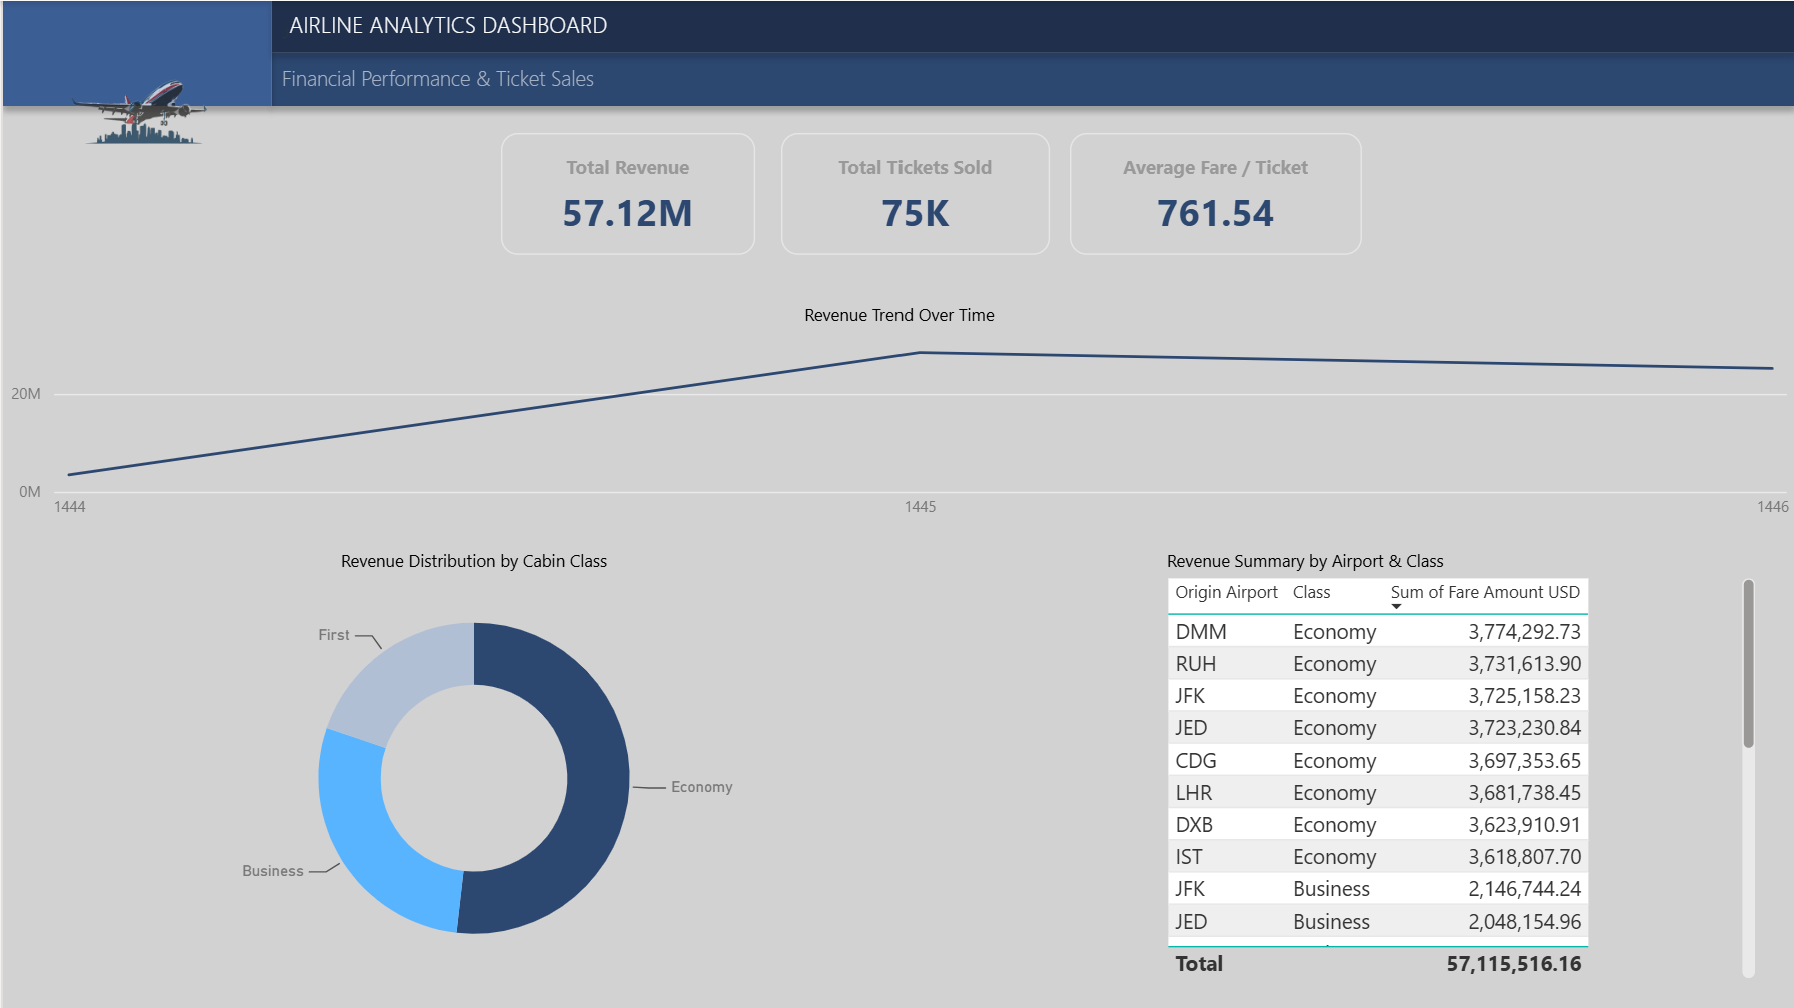

Layout of this report page (visuals, bound fields, positions):
{"tool":"powerbi","page":{"name":"03 | Revenue & Passengers","canvas":[1920,1080],"ordinal":2},"visuals":[{"type":"shape","box":[0,0,182.9,1079.3],"z":0},{"type":"textbox","box":[247,16.1,453.8,67.1],"z":1000},{"type":"textbox","box":[246,63.5,560.1,66.6],"z":2000},{"type":"textbox","box":[10,10,182.9,58],"z":3000},{"type":"textbox","box":[0,58,182.9,55.7],"z":4000},{"type":"actionButton","box":[64.7,260.9,70,70],"z":5000},{"type":"image","box":[78,276.5,44.6,37.9],"z":6000},{"type":"actionButton","box":[64,340,70,70],"z":7000},{"type":"actionButton","box":[64.7,420,70,70],"z":8000},{"type":"actionButton","box":[64.7,500,70,70],"z":9000},{"type":"image","box":[78,356,44,37],"z":10000},{"type":"image","box":[78,436,44,37],"z":11000},{"type":"image","box":[78,516,44,37],"z":12000},{"type":"cardVisual","fields":{"Data":["_Measures.Total Revenue"]},"box":[374.2,111.7,259.3,173.6],"z":13000},{"type":"cardVisual","fields":{"Data":["_Measures.Total Tickets"]},"box":[719.8,111.7,259.3,173.6],"z":14000},{"type":"cardVisual","fields":{"Data":["_Measures.Total Passengers"]},"box":[1065.3,111.7,259.3,173.6],"z":15000},{"type":"cardVisual","fields":{"Data":["_Measures.Average Fare"]},"box":[1410.8,111.7,259.3,173.6],"z":16000},{"type":"shape","box":[231.9,294.4,805,410.3],"z":17000},{"type":"shape","box":[231.9,706.9,805,345.6],"z":18000},{"type":"shape","box":[1083.8,296.6,805,410.3],"z":19000},{"type":"shape","box":[1083.8,706.9,805,345.6],"z":20000},{"type":"lineChart","title":"Average Delay Trend","fields":{"Category":["Dim_Date.Month Year"],"Y":["_Measures.Total Revenue"]},"box":[258.7,321.1,758.2,361.3],"z":21000},{"type":"donutChart","title":"Passenger Loyalty Mix","fields":{"Category":["Dim_Passengers.Loyalty_Tier"],"Y":["_Measures.Total Passengers"]},"box":[1106.1,722.5,760.4,323.3],"z":22000},{"type":"clusteredColumnChart","title":"Revenue by Travel Class","fields":{"Category":["Fact_Tickets.Class"],"Y":["_Measures.Total Revenue"]},"box":[1106.1,314.4,782.7,392.5],"z":23000},{"type":"clusteredColumnChart","title":"Ticket Sales Trend","fields":{"Category":["Dim_Date.Month Year"],"Y":["_Measures.Total Tickets"]},"box":[254.2,722.5,767.1,330],"z":24000},{"type":"image","box":[555.3,173.9,50,50],"z":25000},{"type":"image","box":[1244.3,173.9,50,50],"z":26000},{"type":"image","box":[1594.4,171.7,50,50],"z":27000},{"type":"image","box":[909.8,171.7,50,50],"z":28000}]}

Visuals, with their boxes in screenshot pixels (x1, y1, x2, y2), scaled from the page's 1920x1080 canvas onto the 1794x1008 screenshot:
shape: left=0, top=0, right=171, bottom=1007
textbox: left=231, top=15, right=655, bottom=78
textbox: left=230, top=59, right=753, bottom=121
textbox: left=9, top=9, right=180, bottom=63
textbox: left=0, top=54, right=171, bottom=106
actionButton: left=60, top=244, right=126, bottom=309
image: left=73, top=258, right=115, bottom=293
actionButton: left=60, top=317, right=125, bottom=383
actionButton: left=60, top=392, right=126, bottom=457
actionButton: left=60, top=467, right=126, bottom=532
image: left=73, top=332, right=114, bottom=367
image: left=73, top=407, right=114, bottom=441
image: left=73, top=482, right=114, bottom=516
cardVisual - _Measures.Total Revenue: left=350, top=104, right=592, bottom=266
cardVisual - _Measures.Total Tickets: left=673, top=104, right=915, bottom=266
cardVisual - _Measures.Total Passengers: left=995, top=104, right=1238, bottom=266
cardVisual - _Measures.Average Fare: left=1318, top=104, right=1560, bottom=266
shape: left=217, top=275, right=969, bottom=658
shape: left=217, top=660, right=969, bottom=982
shape: left=1013, top=277, right=1765, bottom=660
shape: left=1013, top=660, right=1765, bottom=982
"Average Delay Trend" lineChart: left=242, top=300, right=950, bottom=637
"Passenger Loyalty Mix" donutChart: left=1034, top=674, right=1744, bottom=976
"Revenue by Travel Class" clusteredColumnChart: left=1034, top=293, right=1765, bottom=660
"Ticket Sales Trend" clusteredColumnChart: left=238, top=674, right=954, bottom=982
image: left=519, top=162, right=566, bottom=209
image: left=1163, top=162, right=1209, bottom=209
image: left=1490, top=160, right=1536, bottom=207
image: left=850, top=160, right=897, bottom=207
